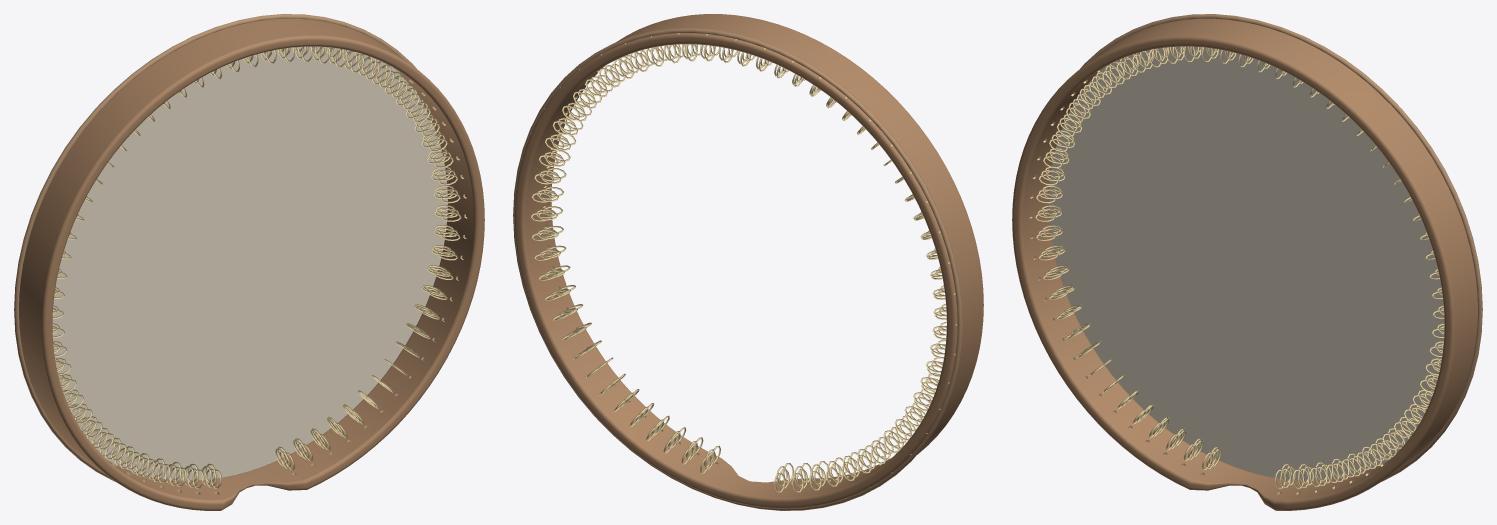
File: daf.glb
3 renders of one model, left to right at view 1: azimuth 30°, elevation 25°; view 2: azimuth 150°, elevation 25°; view 3: azimuth 330°, elevation 25°, orthographic.
Parts seen in each view (by area): view 1: part-skin, shell, band, rings-4, rings-1, rings-5, rings-0, rings-3, rings-2; view 2: shell, band, rings-4, rings-1, rings-0, rings-5, rings-3, rings-2, rings-6, rings-7; view 3: part-skin, shell, band, rings-7, rings-2, rings-0, rings-6, rings-3, rings-1.
Part boxes in pixels (x1,y1,x2,y2): part-skin: (52, 46, 447, 480); shell: (19, 18, 484, 510); band: (14, 14, 416, 487); rings-4: (384, 71, 461, 221); rings-1: (100, 437, 221, 488); rings-5: (260, 46, 394, 87); rings-0: (52, 305, 114, 449); rings-3: (384, 225, 460, 375); rings-2: (275, 375, 394, 470); shell: (514, 14, 983, 508); band: (513, 28, 962, 510); rings-4: (531, 75, 613, 221); rings-1: (774, 437, 893, 492); rings-0: (883, 304, 946, 453); rings-5: (599, 44, 737, 87); rings-3: (532, 225, 613, 377); rings-2: (599, 373, 720, 473); rings-6: (737, 51, 879, 149); rings-7: (883, 160, 945, 299); part-skin: (1049, 46, 1444, 480); shell: (1012, 18, 1477, 510); band: (1080, 14, 1482, 487); rings-7: (1036, 71, 1112, 203); rings-2: (1275, 437, 1396, 488); rings-0: (1035, 205, 1112, 375); rings-6: (1102, 46, 1253, 87); rings-3: (1382, 323, 1444, 449); rings-1: (1102, 375, 1221, 470).
Size of the model in its own units: 1 by 1 by 0.1136.
